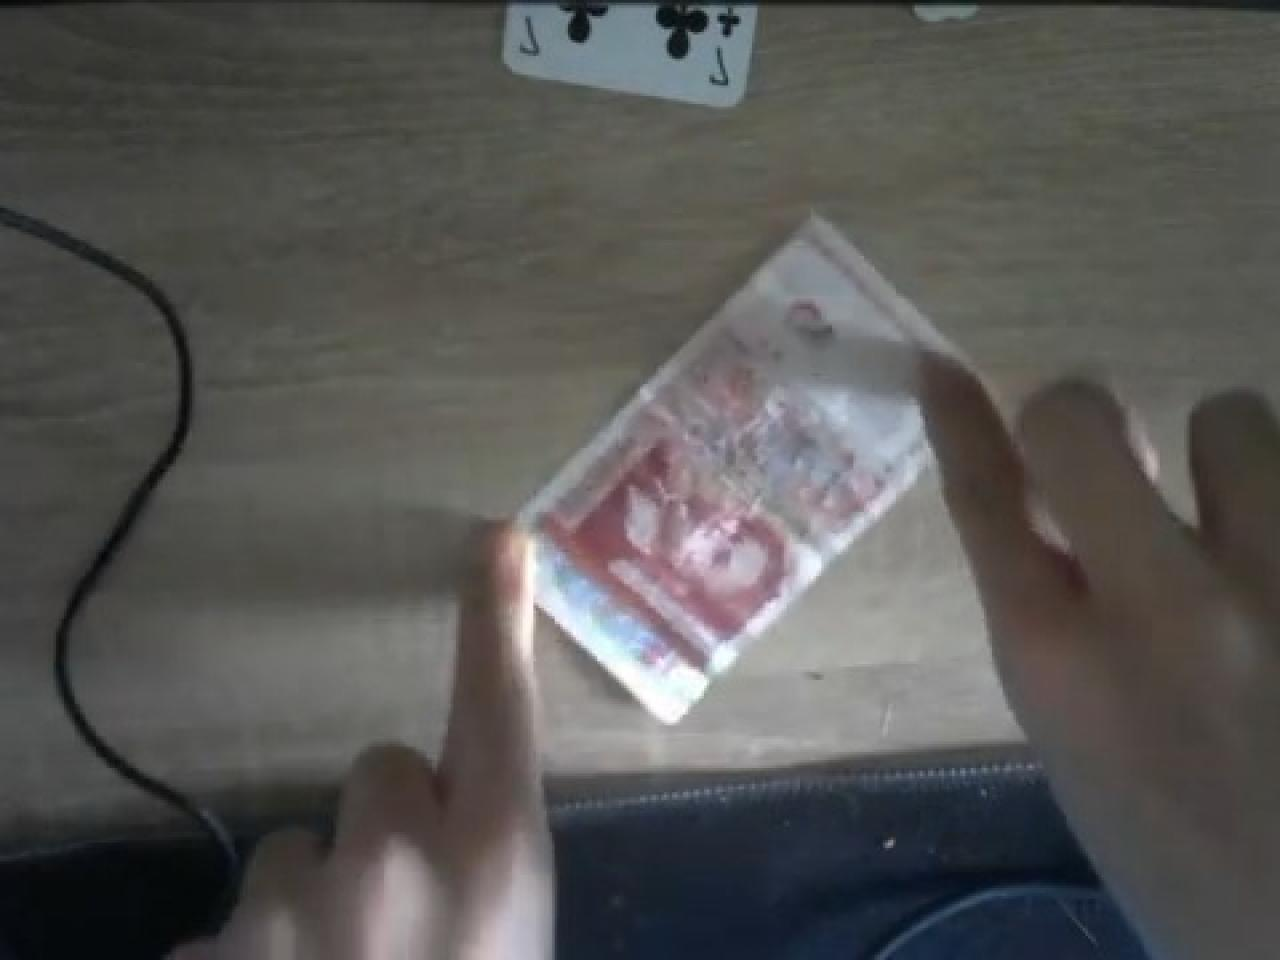5leva: (507, 208, 957, 723)
